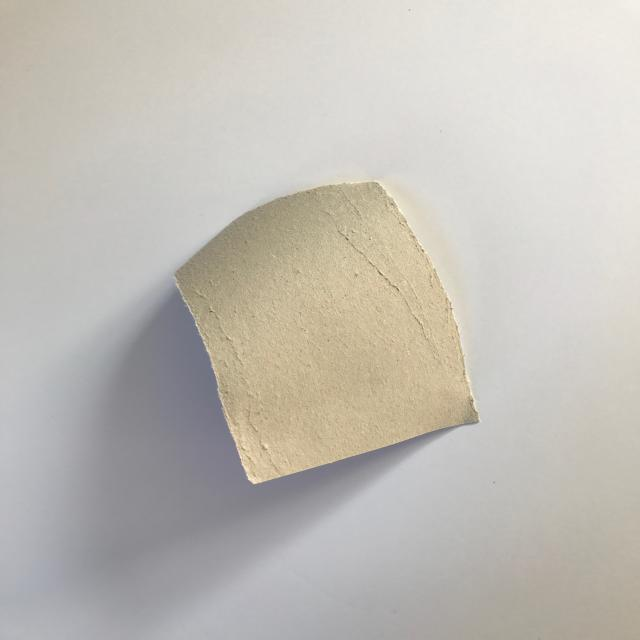paper: (172, 180, 480, 484)
